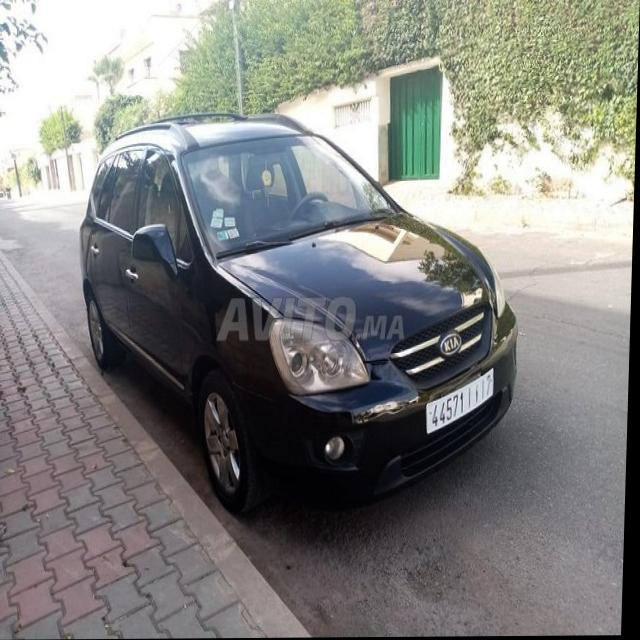License-Plate: (429, 371, 496, 433)
